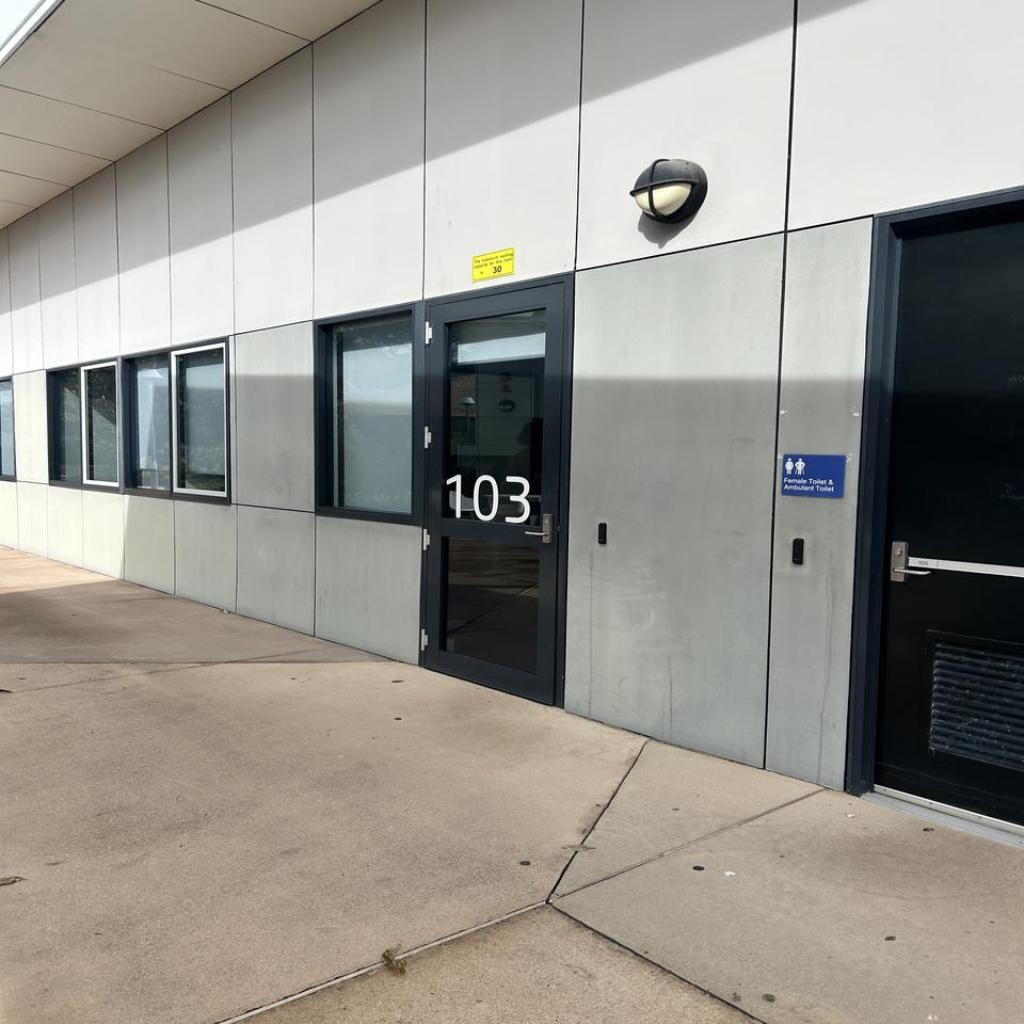BuildingCodes: (446, 474, 532, 524)
